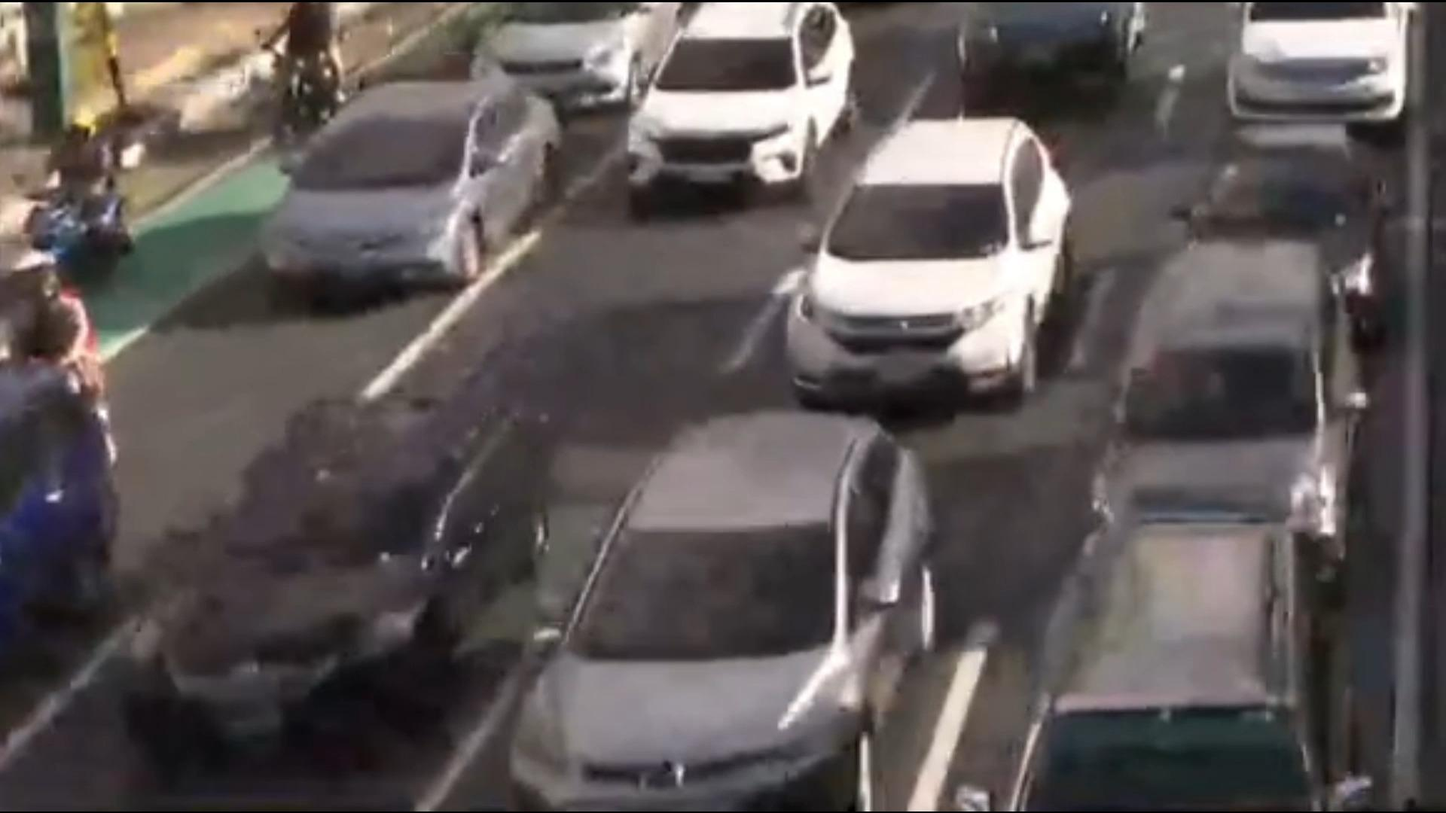Motorcycle: (4, 111, 164, 309), (222, 0, 373, 157)
SUV: (475, 394, 944, 813), (918, 510, 1369, 813), (1067, 234, 1367, 598), (766, 94, 1085, 429), (619, 0, 868, 226)
Sedan: (224, 55, 565, 313), (1143, 119, 1424, 340)
